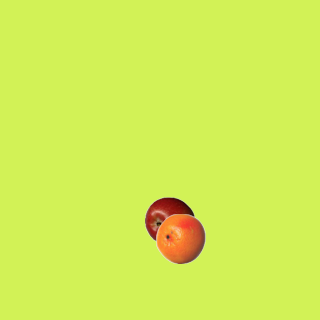Apple Braeburn: (144, 196, 194, 246)
Grapefruit Pink: (155, 213, 205, 263)
